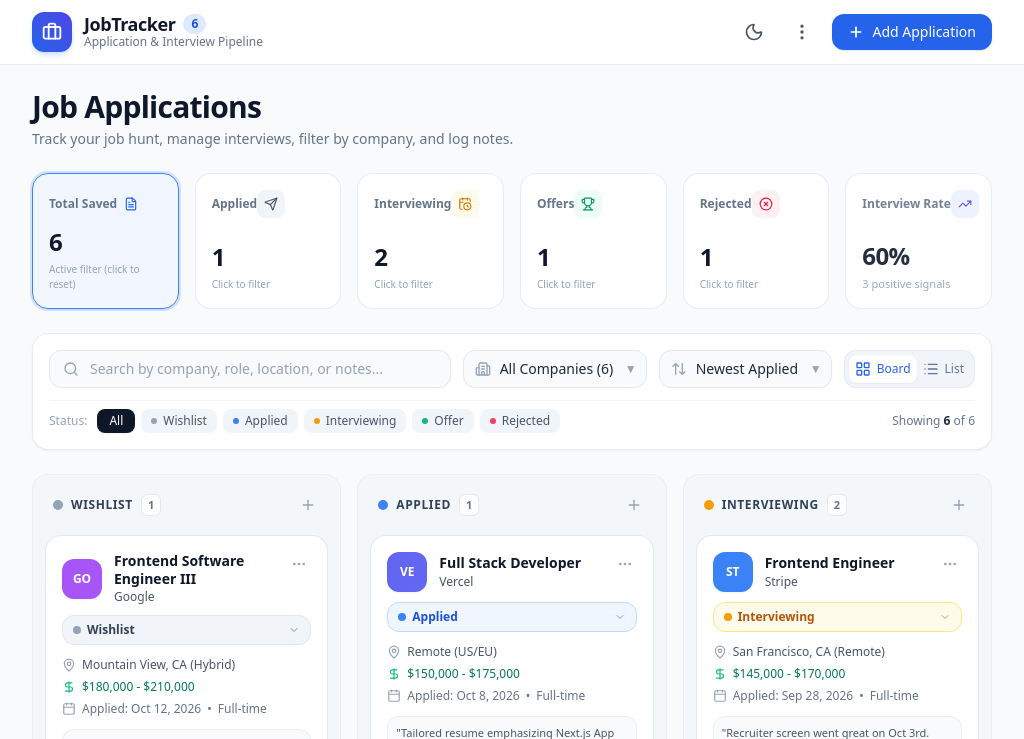
Scenario: Job Application Tracker - End-to-End Feature Verification › Requirement 1: Add new application with form validation
Note: Click "Add Application" button in navbar
Click the button "Add Application".
click(912, 32)  # box [832,14,992,50]
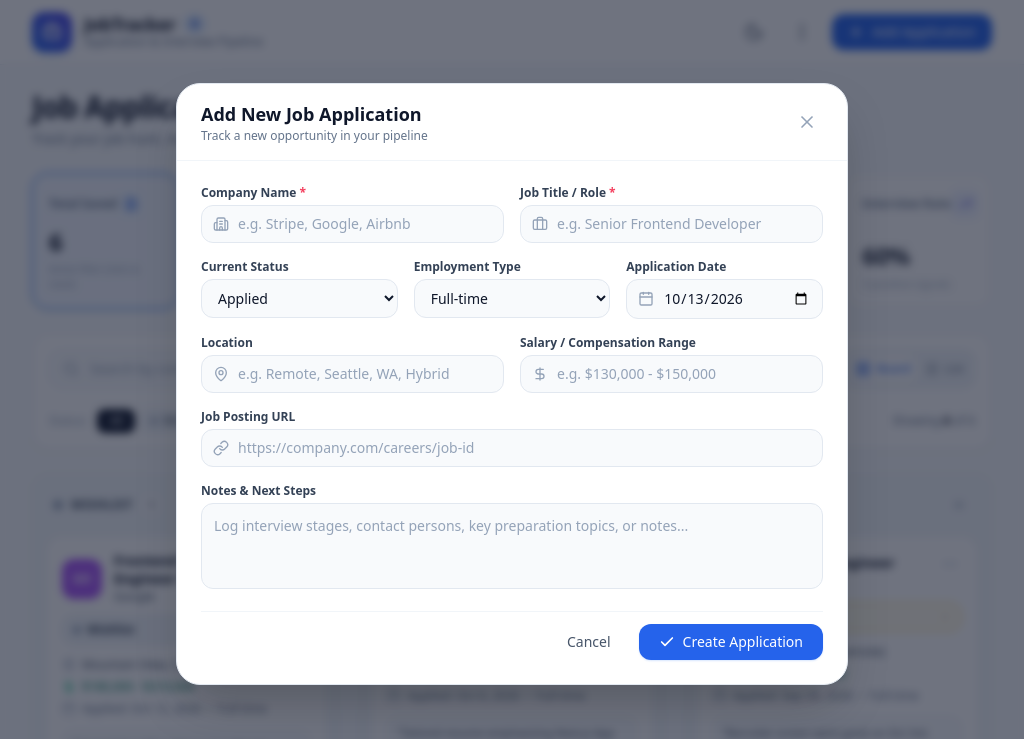
Expected: the heading "Add New Job Application" is shown, [201,100,428,128]
Type "Netflix" into the field with placeholder "e.g. Stripe, Google, Airbnb".
click(352, 224); type("Netflix")  # box [201,205,504,243]
Type "Staff UI Engineer" into the field with placeholder "e.g. Senior Frontend Developer".
click(672, 224); type("Staff UI Engineer")  # box [520,205,823,243]
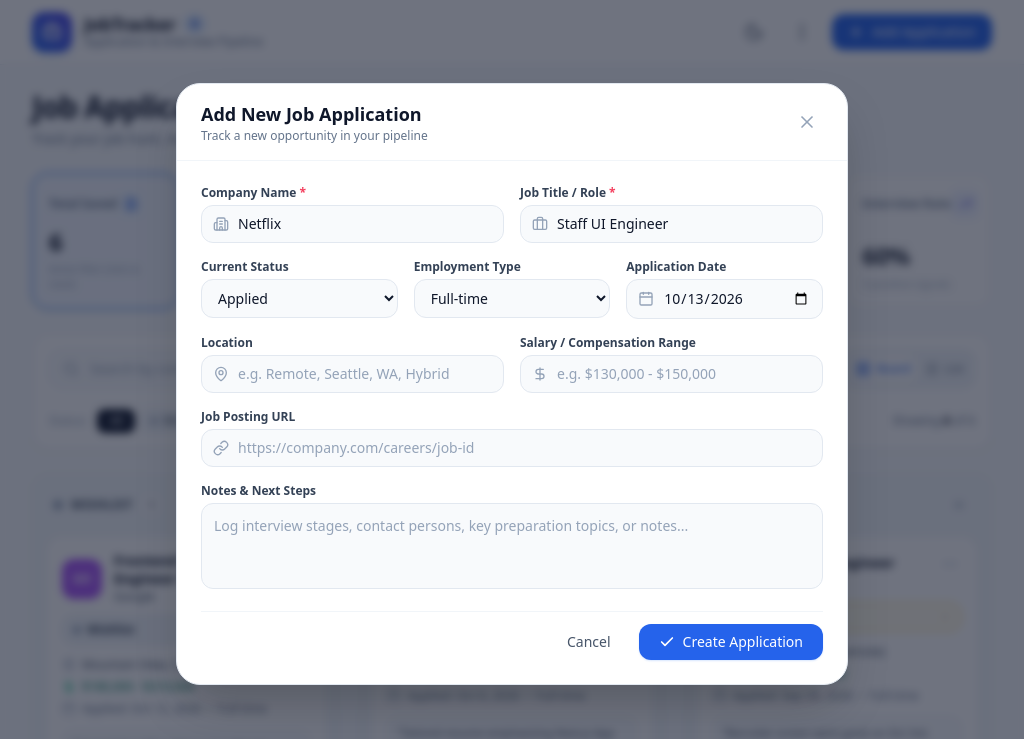
Type "Los Gatos, CA (Remote)" into the field with placeholder "e.g. Remote, Seattle, WA, Hybrid".
click(352, 374); type("Los Gatos, CA (Remote)")  # box [201,355,504,393]
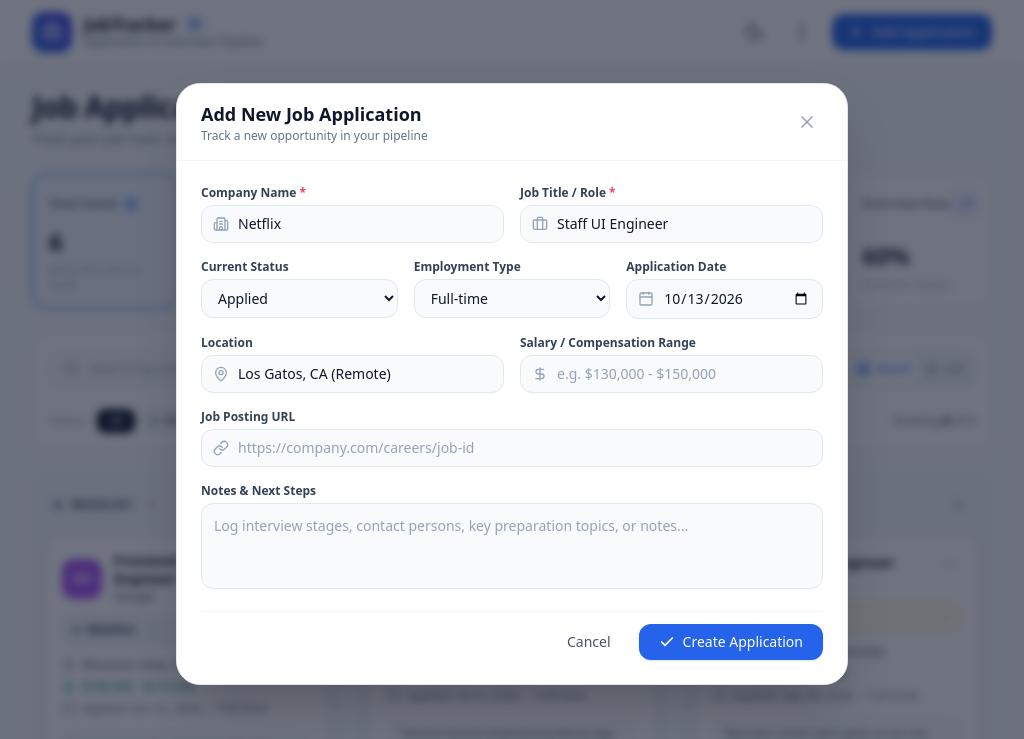
Type "$220,000 - $250,000" into the field with placeholder "e.g. $130,000 - $150,000".
click(672, 374); type("$220,000 - $250,000")  # box [520,355,823,393]
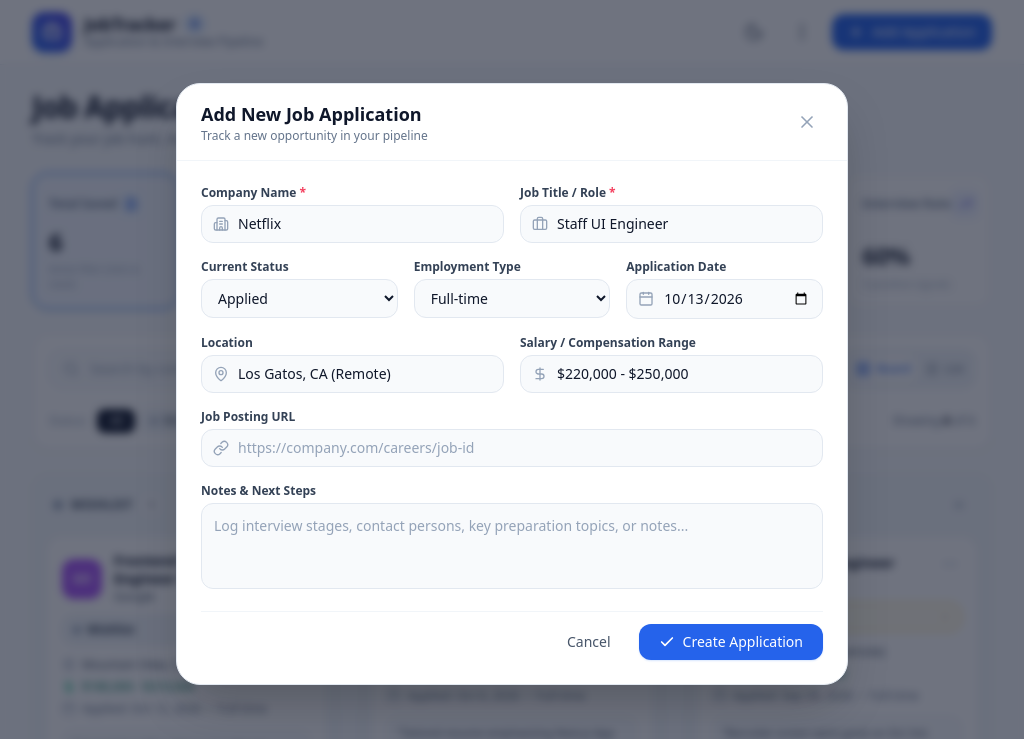
Replace the text in the text box with placeholder "Log interview stages" with "Initial recruiter screening passed with flying colors." at point(512, 546), box [201,503,823,589]
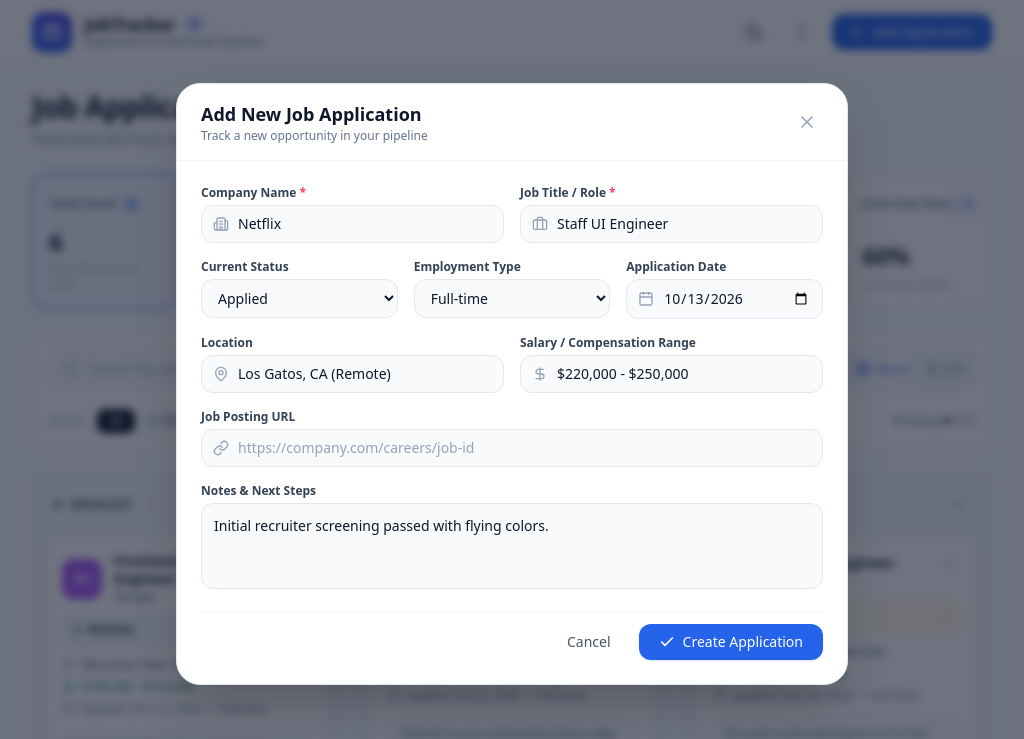
Note: Submit form
Click the button "Create Application".
click(731, 642)  # box [638,624,823,660]
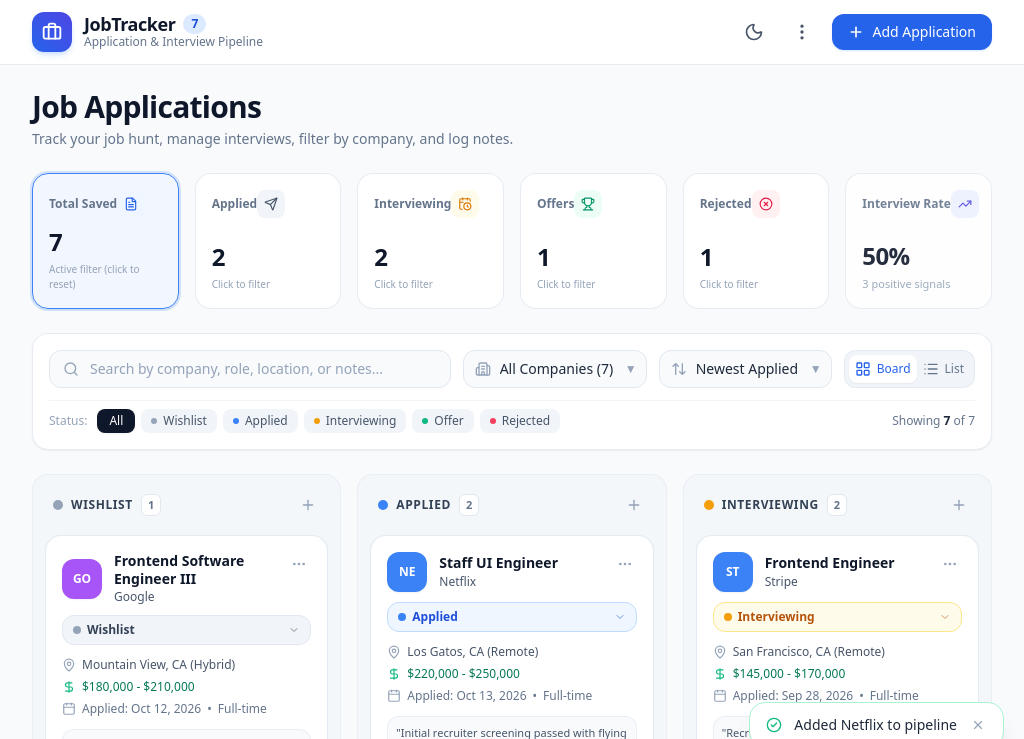
Expected: the heading "Add New Job Application" is gone
Expected: the text "Netflix" is shown, [439,573,476,590]
Expected: the heading "Staff UI Engineer" is shown, [439,554,558,572]
